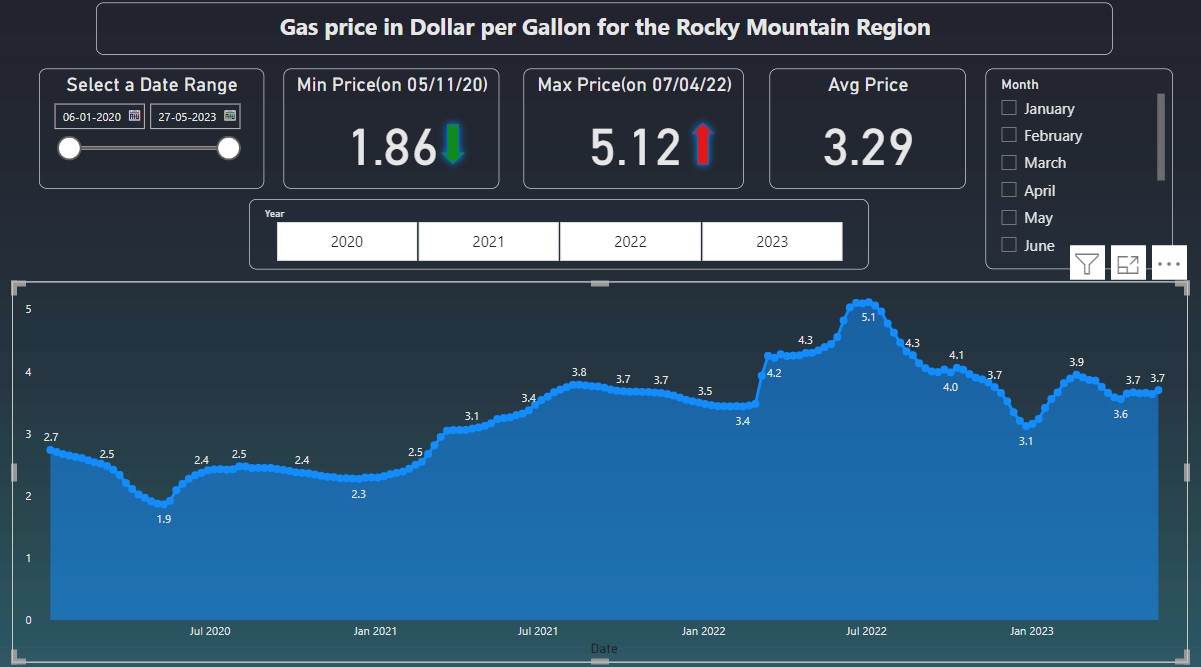

The dashboard page shown, as its layout file describes it:
{"tool":"powerbi","page":{"name":"Page 1","canvas":[1280,720],"ordinal":0},"visuals":[{"type":"card","title":"Min Price(on 05/11/20)","fields":{"Values":["Min(Sheet1.Weekly Rocky Mountain All Grades All Formulations Retail Gasoline Prices  (Dollars per Gallon))"]},"box":[303.6,77.9,228.9,127.2],"z":0},{"type":"card","title":"Max Price(on 07/04/22)","fields":{"Values":["Max(Sheet1.Weekly Rocky Mountain All Grades All Formulations Retail Gasoline Prices  (Dollars per Gallon))"]},"box":[557.9,77.9,233.6,127.2],"z":1000},{"type":"card","title":"Avg Price","fields":{"Values":["Avg(Sheet1.Weekly Rocky Mountain All Grades All Formulations Retail Gasoline Prices  (Dollars per Gallon))"]},"box":[818.5,77.9,208.2,127.2],"z":2000},{"type":"textbox","box":[104.9,7.9,1077.6,55.6],"z":3000},{"type":"shape","box":[727.9,127.2,39.7,60.4],"z":4000},{"type":"shape","box":[462.5,128.7,41.3,58.8],"z":5000},{"type":"slicer","title":"Select a Date Range","fields":{"Values":["Sheet1.Date"]},"box":[44.5,77.9,238.4,127.2],"z":6000},{"type":"areaChart","fields":{"Y":["Avg(Sheet1.Weekly Rocky Mountain All Grades All Formulations Retail Gasoline Prices  (Dollars per Gallon))"],"Category":["Sheet1.Date"]},"box":[15.9,303.6,1246.1,403.7],"z":7000},{"type":"slicer","fields":{"Values":["Sheet1.Date.Variation.Date Hierarchy.Year"]},"box":[267,216.2,656.4,74.7],"z":8000},{"type":"slicer","fields":{"Values":["Sheet1.Date.Variation.Date Hierarchy.Month"]},"box":[1047.4,77.9,198.7,213],"z":9000}]}

Visuals, with their boxes in screenshot pixels (x1, y1, x2, y2), scaled from the page's 1280x720 canvas onto the 1201x667 screenshot:
"Min Price(on 05/11/20)" card: bbox(285, 72, 500, 190)
"Max Price(on 07/04/22)" card: bbox(523, 72, 743, 190)
"Avg Price" card: bbox(768, 72, 963, 190)
textbox: bbox(98, 7, 1110, 59)
shape: bbox(683, 118, 720, 174)
shape: bbox(434, 119, 473, 174)
"Select a Date Range" slicer: bbox(42, 72, 265, 190)
areaChart - Avg(Sheet1.Weekly Rocky Mountain All Grades All Formulations Retail Gasoline Prices  (Dollars per Gallon)) x Sheet1.Date: bbox(15, 281, 1184, 655)
slicer - Sheet1.Date.Variation.Date Hierarchy.Year: bbox(251, 200, 866, 269)
slicer - Sheet1.Date.Variation.Date Hierarchy.Month: bbox(983, 72, 1169, 269)
